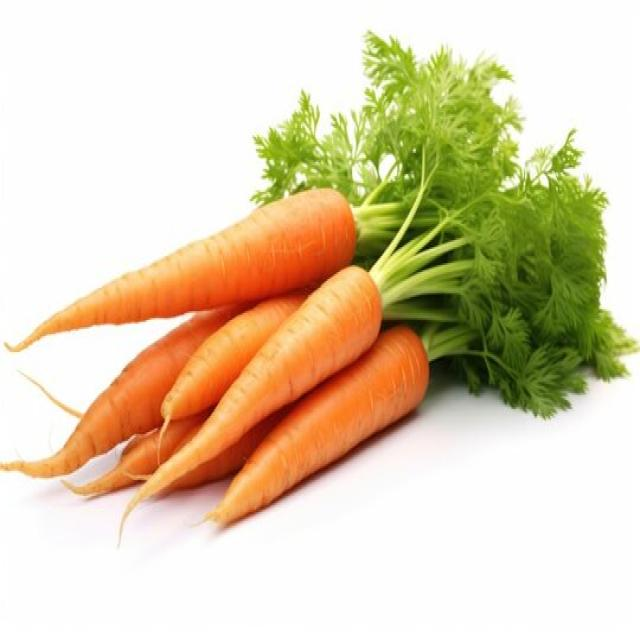Carrot: (115, 265, 383, 544), (2, 185, 357, 354), (194, 322, 429, 530), (0, 295, 249, 480), (154, 286, 309, 471), (59, 412, 210, 500)
